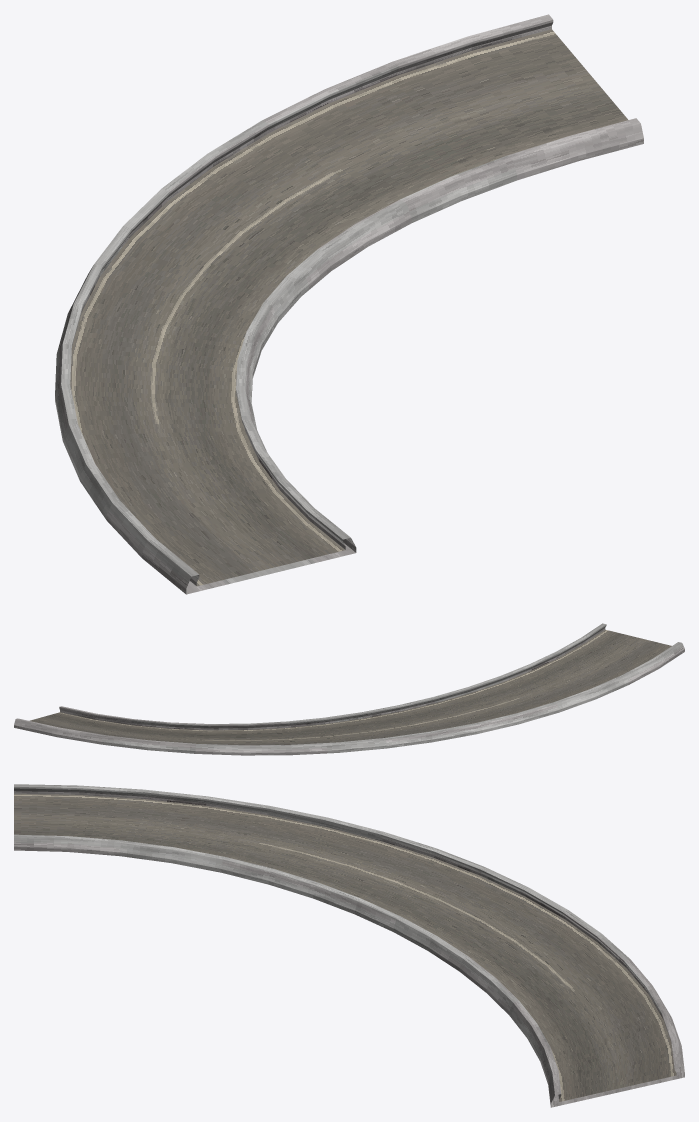
File: turn-right5x5.glb
The picture shows the model from 3 angles, top to bottom: view 1: azimuth 30°, elevation 25°; view 2: azimuth 150°, elevation 25°; view 3: azimuth 270°, elevation 25°; orthographic projection. The views are drawn at different scales.
Visible parts, largest first — view 1: road-Turn-Flat-HalfBankedRight-Down1-Right-Size5; view 2: road-Turn-Flat-HalfBankedRight-Down1-Right-Size5; view 3: road-Turn-Flat-HalfBankedRight-Down1-Right-Size5.
Part boxes in pixels (bbox=[...]): road-Turn-Flat-HalfBankedRight-Down1-Right-Size5: bbox=[55, 14, 643, 594]; road-Turn-Flat-HalfBankedRight-Down1-Right-Size5: bbox=[14, 623, 684, 755]; road-Turn-Flat-HalfBankedRight-Down1-Right-Size5: bbox=[14, 784, 684, 1107].
Size of the model in its own units: 5 by 0.3438 by 5.
2 materials, 2 textured.
